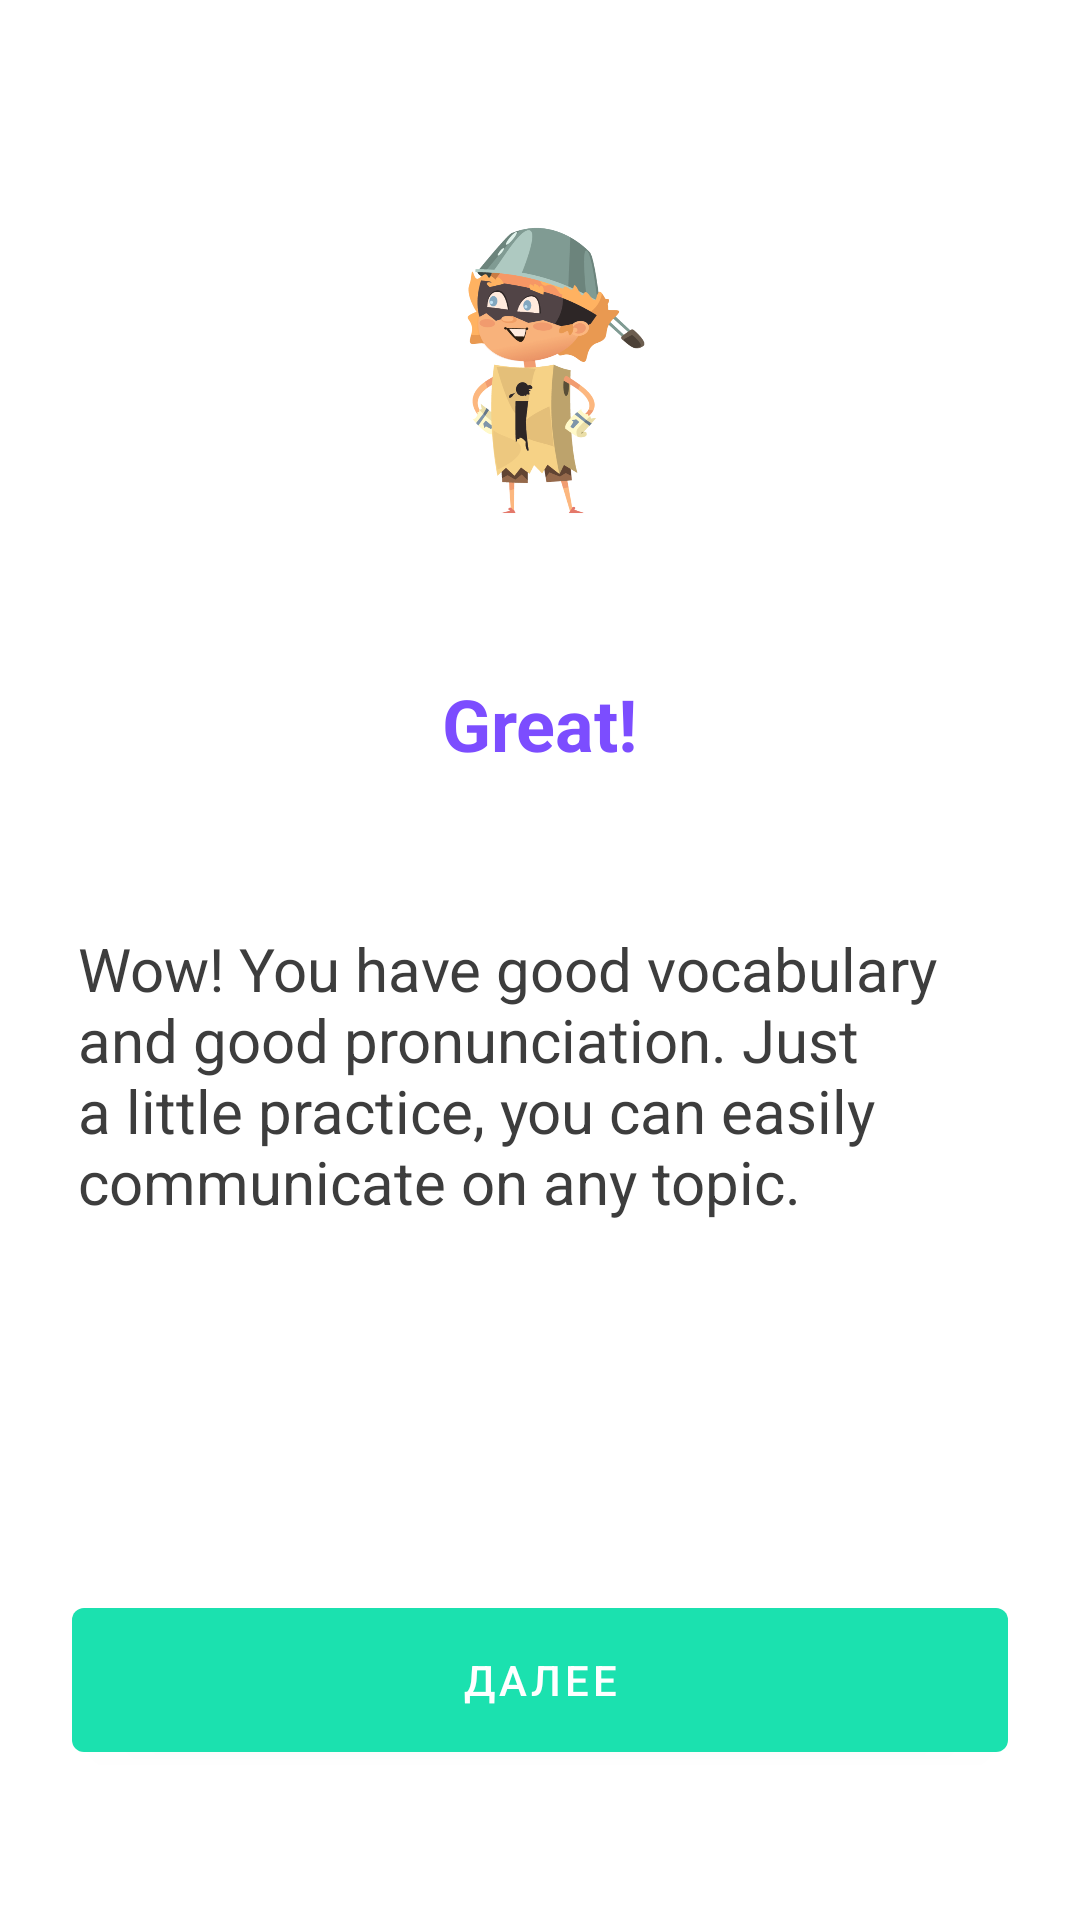

Named icons in this screenshot (1080 x 1920) and their centers, (x,y):
kidthird: (556,370)
